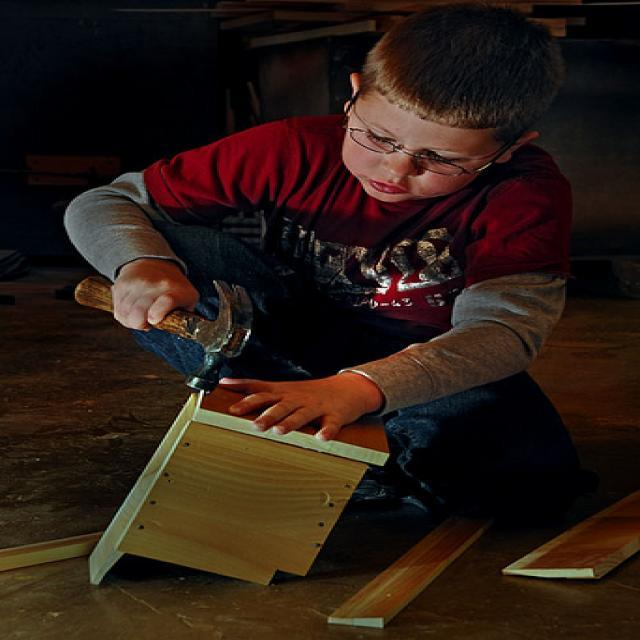hammer: (55, 266, 264, 396)
